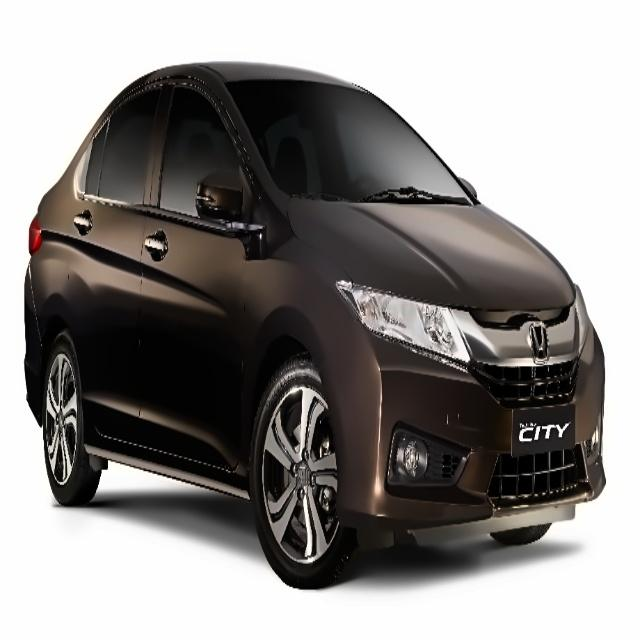Car hood: (279, 194, 582, 311)
Driver-s door - -F-R-: (142, 60, 256, 477)
Fender - -F-R-: (230, 224, 360, 500)
Fender - -R-R-: (30, 223, 98, 458)
Front bumper: (322, 363, 627, 541)
Headlight - -L-: (560, 279, 599, 350)
Headlight - -R-: (328, 270, 475, 368)
Passenger-s door - -R-R-: (64, 69, 149, 445)
Rear bumper: (14, 272, 56, 430)
Rear light - -R-: (22, 202, 50, 262)
Side bumper - -R-: (79, 422, 270, 508)
Side mirror - -L-: (437, 169, 486, 206)
Side mirror - -R-: (192, 157, 256, 231)
